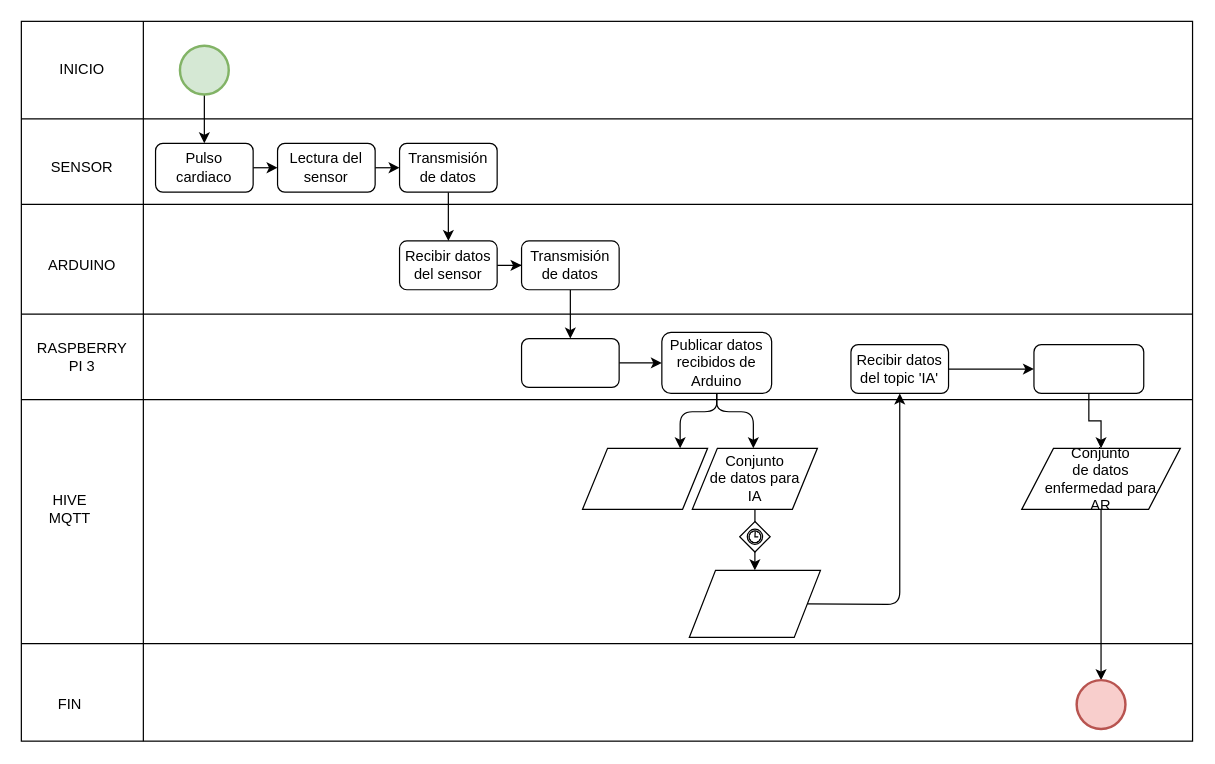
Some shapes in this 1215 by 764 pixel diagram are drawn without their labels. Here are the shapes that lost their labels. From the top down, the box of each, then its label:
(520, 337, 619, 387): Recibir datos de Arduino Uno
(1033, 343, 1144, 393): Publicar datos recibidos de IA
(581, 447, 708, 509): Conjunto de datos ECG para AR
(688, 569, 820, 637): Respuesta de IA
